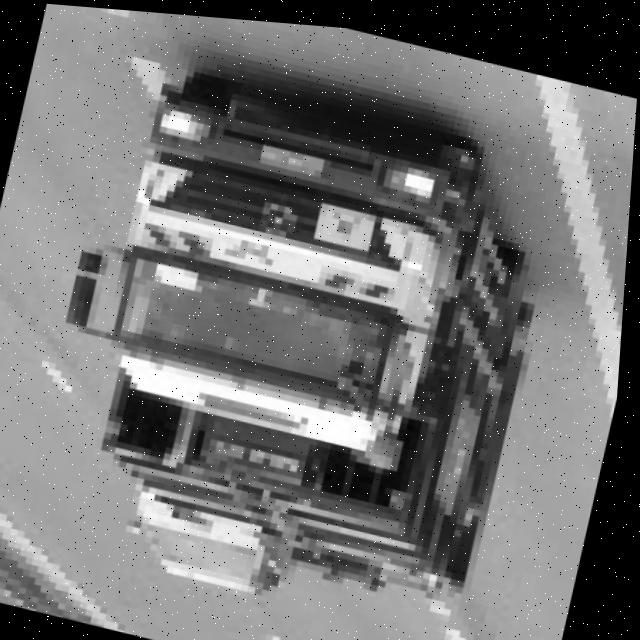truck: (42, 43, 518, 498)
